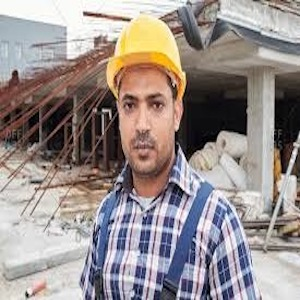safety: (106, 15, 184, 87)
